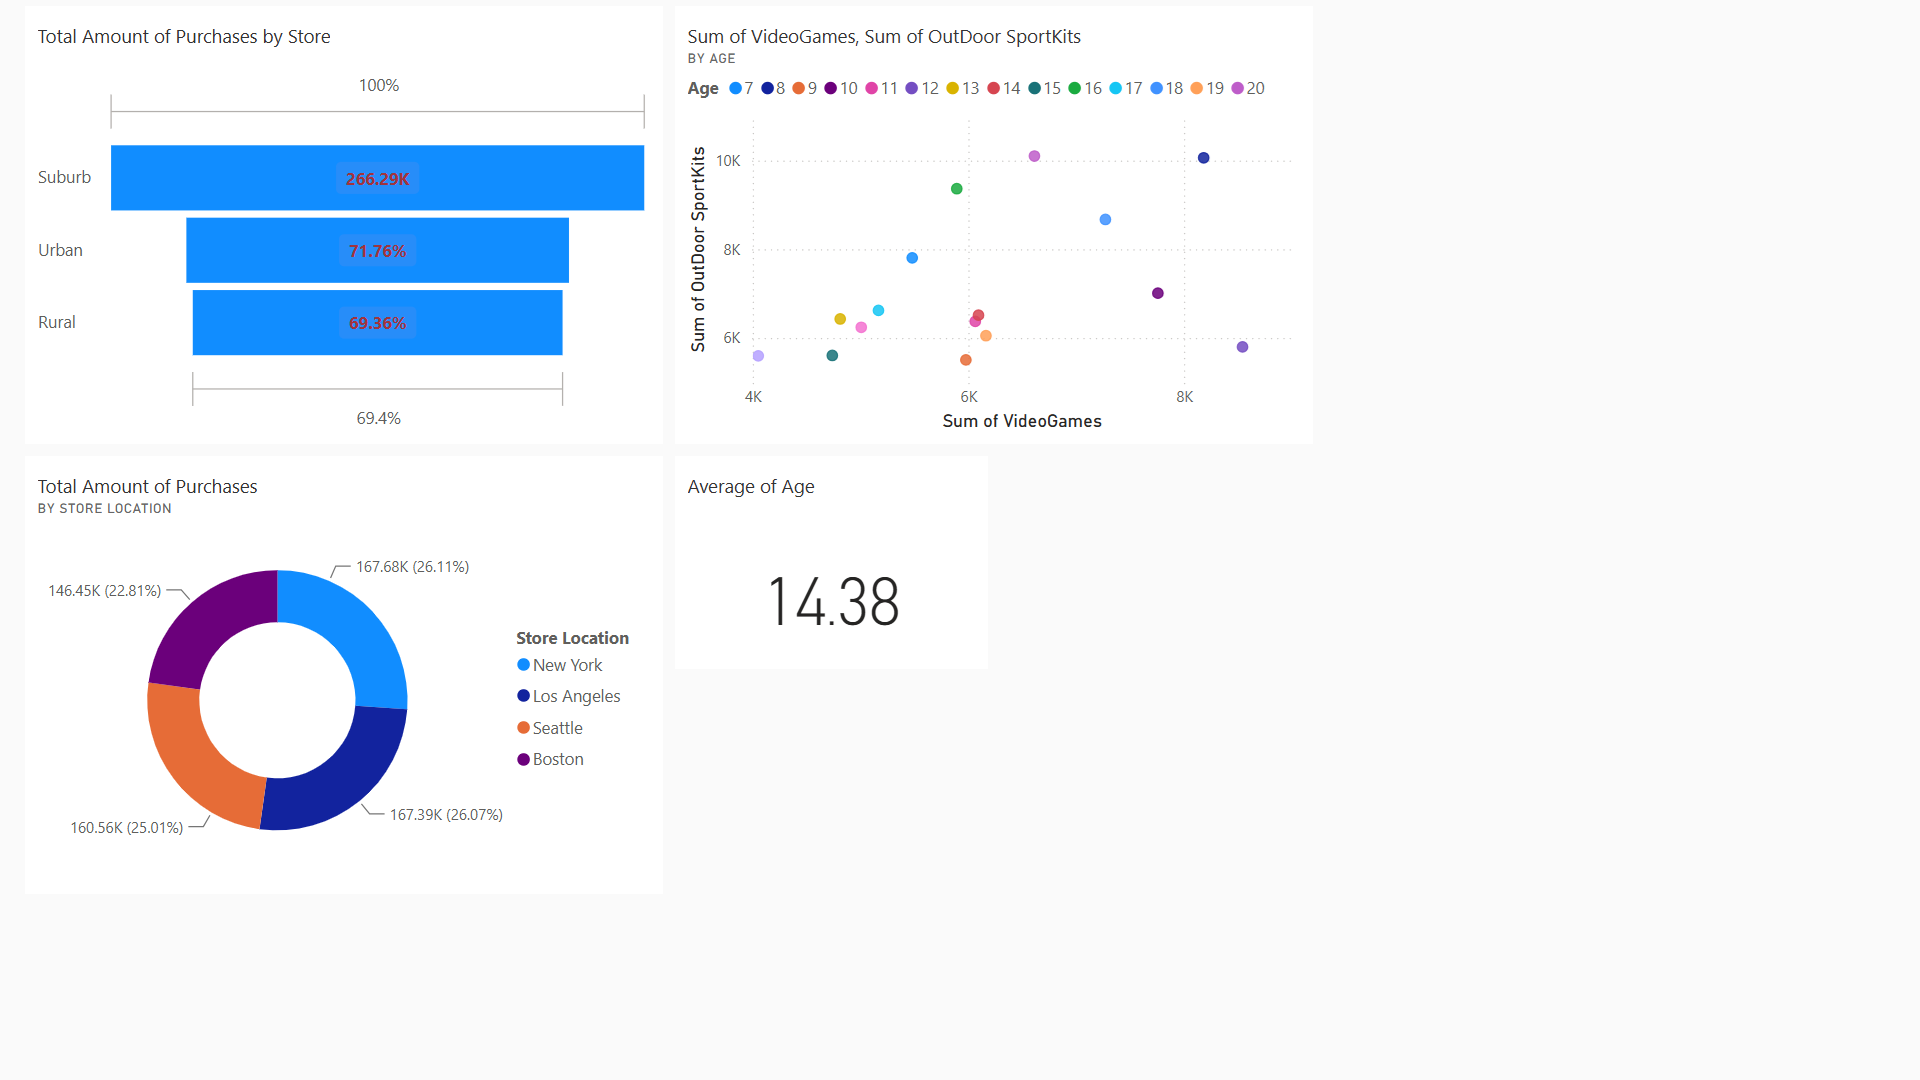

The page's visual inventory and layout, read from the dashboard file:
{"tool":"powerbi","page":{"name":"Page 1","canvas":[1280,720],"ordinal":0},"visuals":[{"type":"tableEx","fields":{"Values":["Student Survey.Store Setting","Student Survey.Store Location","Sum(Student Survey.Total Amount of Purchases)"]},"box":[24.7,12.3,273.1,385.6],"z":0},{"type":"pivotTable","fields":{"Values":["Sum(Student Survey.OutDoor SportKits)"],"Rows":["Student Survey.Age"],"Columns":["Student Survey.Store Setting"]},"box":[348.5,0,378.7,387],"z":1000},{"type":"funnel","title":"Total Amount of Purchases by Store","fields":{"Y":["Sum(Student Survey.Total Amount of Purchases)"],"Category":["Student Survey.Store Setting"]},"box":[793.1,28.8,370.5,387],"z":2000},{"type":"pieChart","title":"Total Amount of Purchases by Location and Store","fields":{"Y":["Sum(Student Survey.Total Amount of Purchases)"],"Category":["Student Survey.Store Location"],"Series":["Student Survey.Store Setting"]},"box":[558.5,415.8,419.9,289.5],"z":3000}]}

Visuals, with their boxes in screenshot pixels (x1, y1, x2, y2), scaled from the page's 1280x720 canvas onto the 1920x1080 screenshot:
tableEx - Student Survey.Store Setting x Student Survey.Store Location: BBox(37, 18, 447, 597)
pivotTable - Sum(Student Survey.OutDoor SportKits) x Student Survey.Age: BBox(523, 0, 1091, 580)
"Total Amount of Purchases by Store" funnel: BBox(1190, 43, 1745, 624)
"Total Amount of Purchases by Location and Store" pieChart: BBox(838, 624, 1468, 1058)
